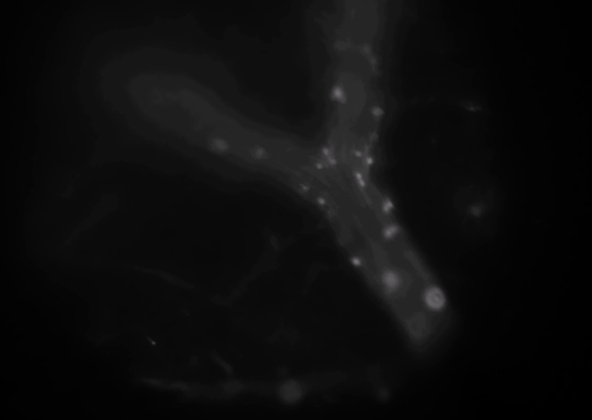cell: (429, 292, 443, 306), (371, 104, 385, 118), (350, 146, 364, 160), (362, 153, 376, 167), (318, 143, 332, 157), (312, 159, 326, 173), (326, 157, 340, 171), (325, 90, 339, 104), (351, 169, 365, 183), (334, 90, 348, 104), (354, 177, 368, 191), (347, 255, 361, 269), (381, 272, 395, 286), (381, 227, 395, 241), (382, 197, 396, 211), (384, 223, 398, 237), (379, 202, 393, 216), (314, 195, 328, 209), (297, 181, 311, 195), (252, 143, 266, 157), (212, 139, 226, 153), (359, 43, 373, 57), (366, 56, 380, 70), (331, 37, 345, 51), (367, 129, 381, 143), (330, 86, 344, 100)
